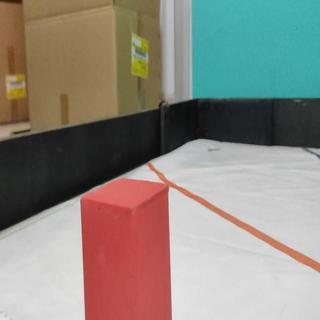redbox: (79, 177, 173, 320)
